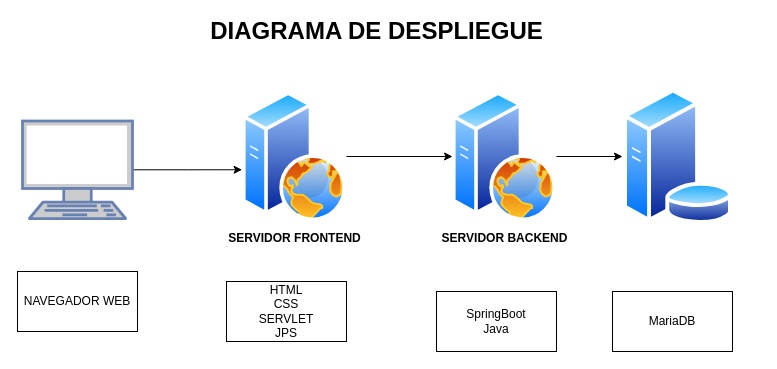
Image size: 777x369. Some labels were removed from this diagram. Here are the shapes that lost their labels. From the top down, the centre of each, then its label:
At (77,169): "TERMINAL".
At (677,156): "SERVIDOR BASE DE DATOS".
